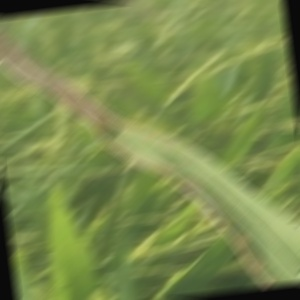Leaf_Blast: (101, 101, 195, 198)
